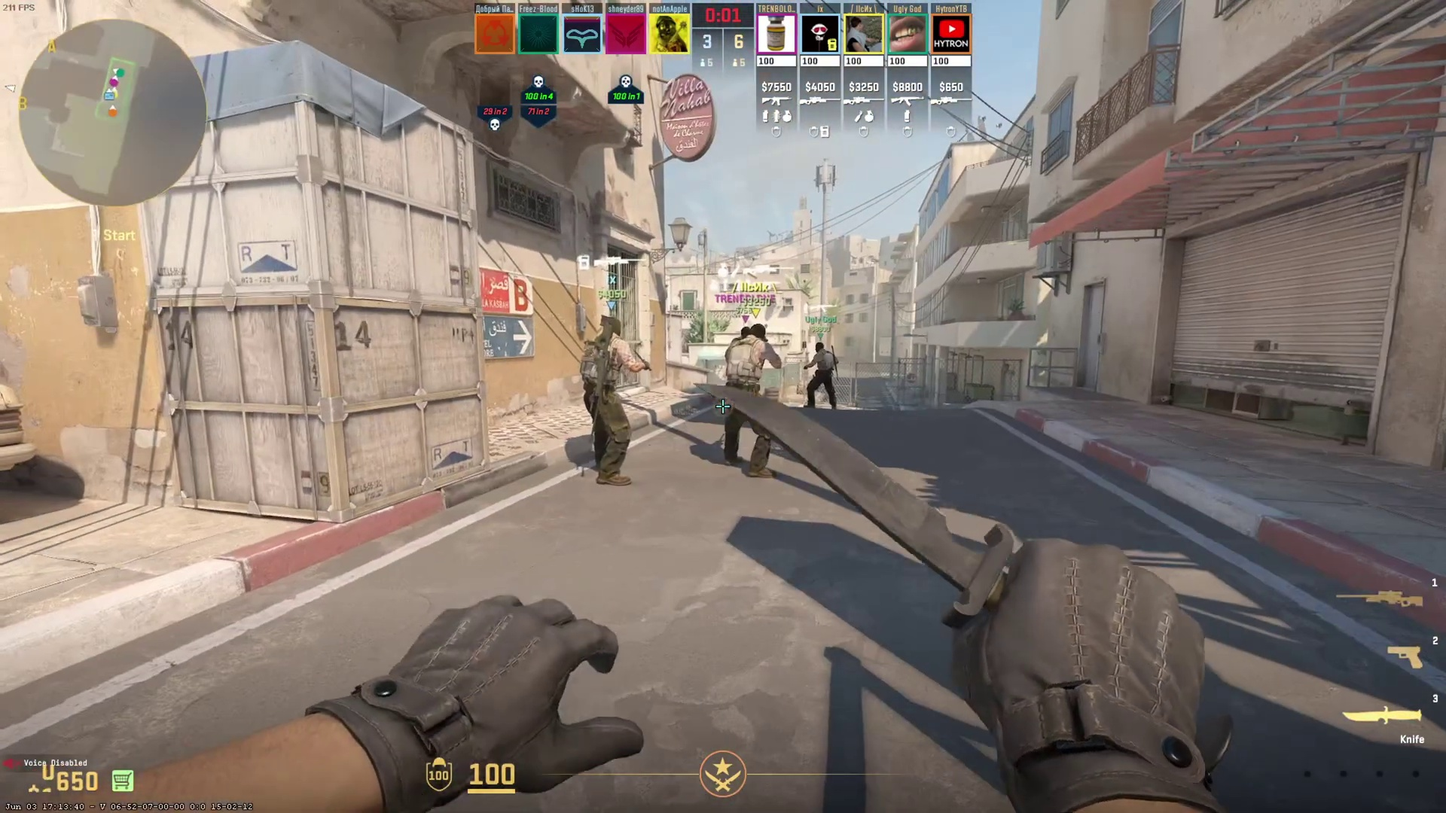Terrorist: (585, 317, 631, 486), (726, 324, 775, 476), (804, 342, 836, 411)
